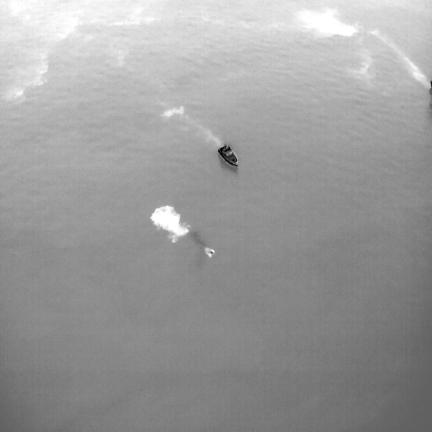flukeprints: (151, 206, 188, 242)
